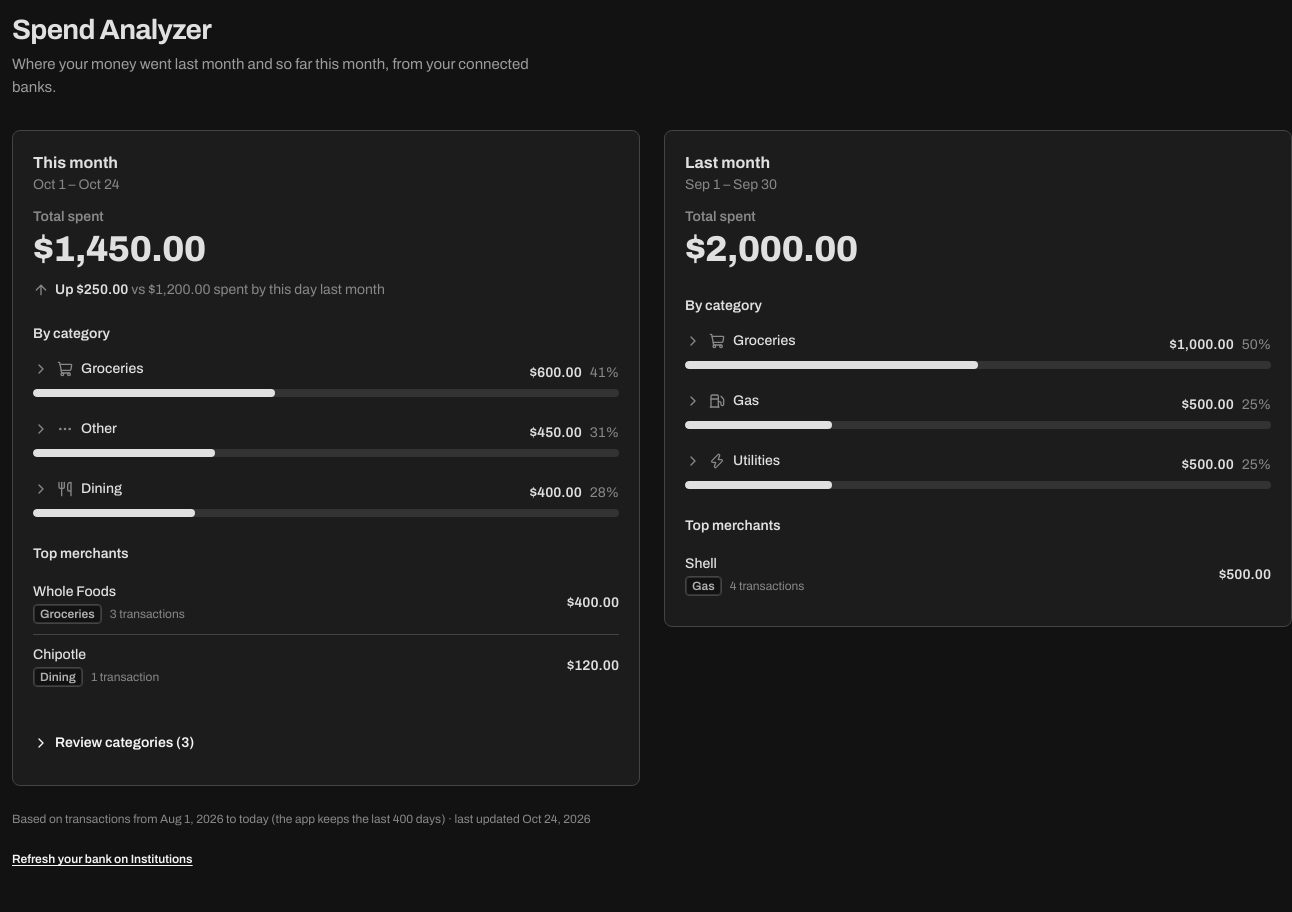
it: SpendingView › changing categories › expands a category to just its transactions, and collapses it again
Click the button with test id "spending-category-toggle" showing "Groceries $600.0041%". click: point(112, 368)
box: top-left (33, 356), bottom-right (619, 400)
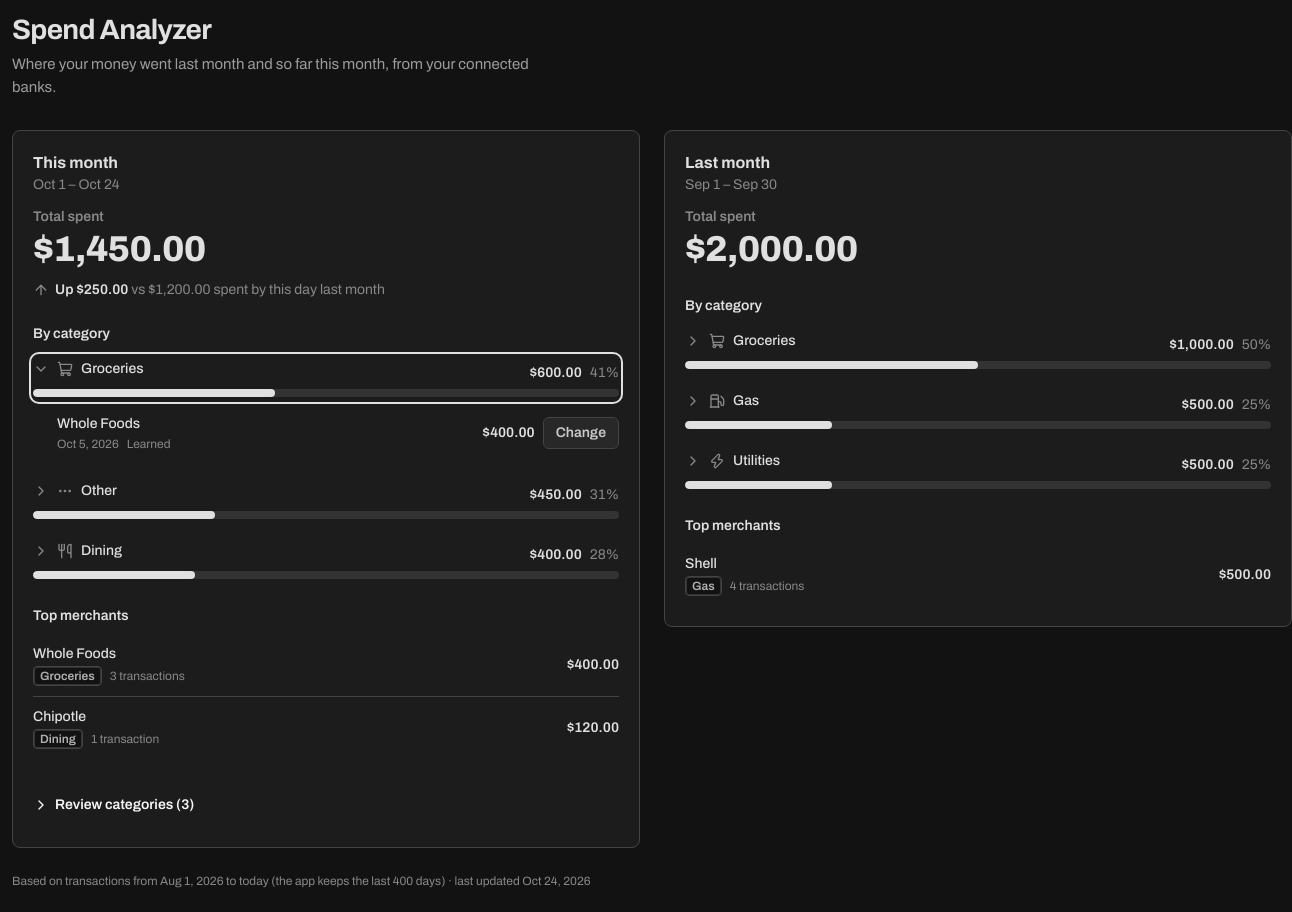
Now the button with test id "spending-category-toggle" is expanded
Now the number of list items with test id "spending-category-transaction-row" is 1, box top-left (57, 404), bottom-right (619, 462)
Now the list item with test id "spending-category-transaction-row" shows "Whole Foods", box top-left (57, 416), bottom-right (140, 431)
Click the button with test id "spending-category-toggle" showing "Groceries $600.0041%". click: point(112, 368)
box: top-left (33, 356), bottom-right (619, 400)
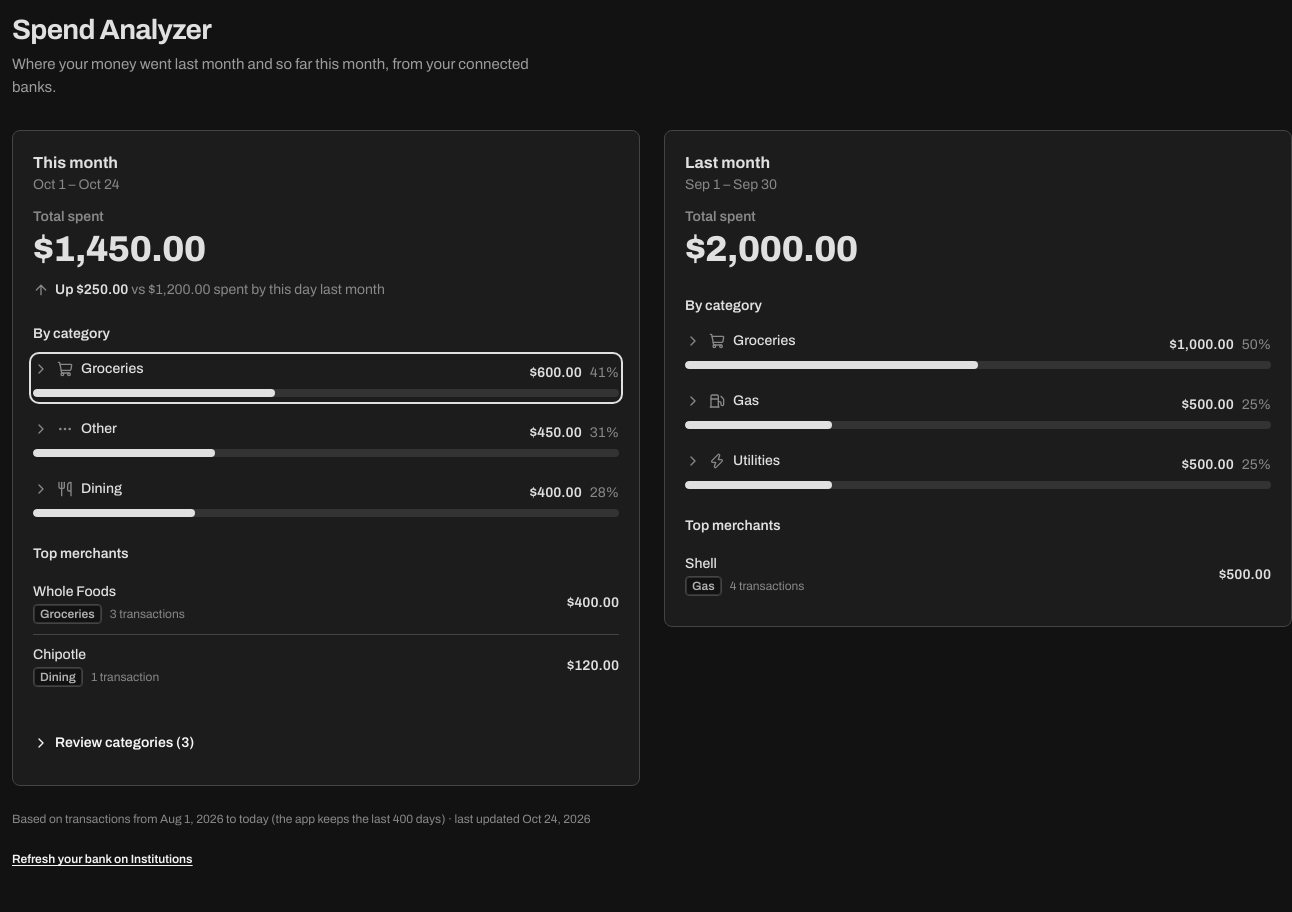
Now the button with test id "spending-category-toggle" is collapsed, box top-left (33, 356), bottom-right (619, 400)
Now the list with test id "spending-category-transactions" is gone
